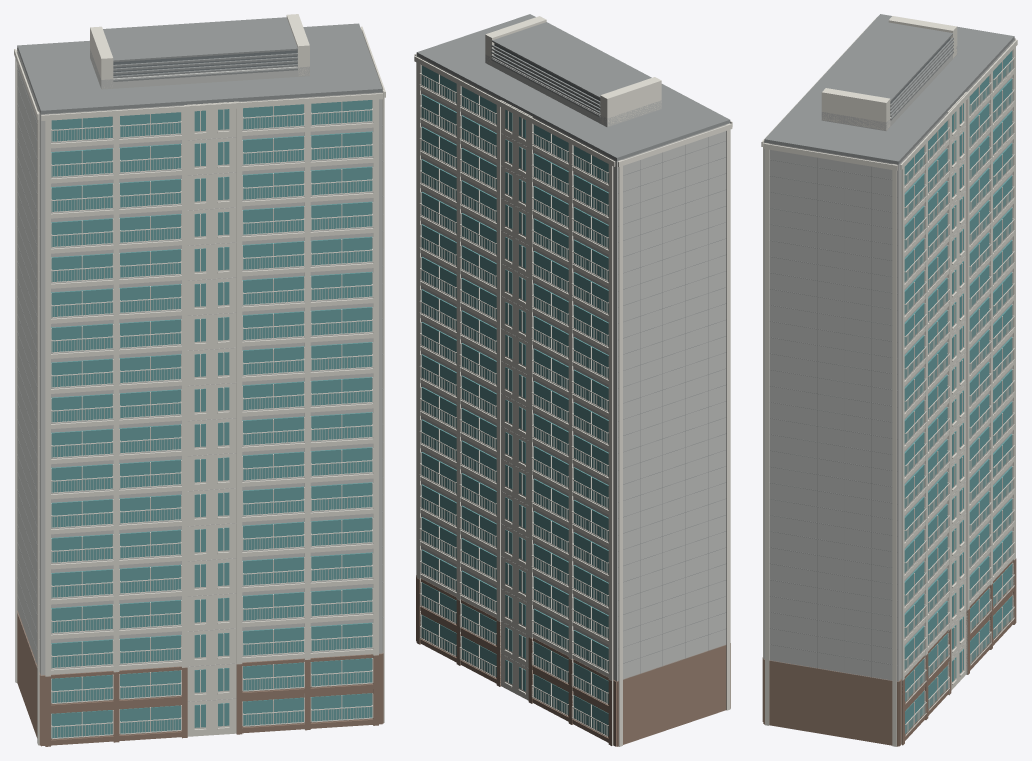
Rendered from bespoke-jamsil-els-151.glb.
The picture shows the model from 3 angles, left to right: view 1: azimuth 30°, elevation 25°; view 2: azimuth 150°, elevation 25°; view 3: azimuth 270°, elevation 25°; orthographic projection. The views are drawn at different scales.
Visible parts, largest first — view 1: Els151_editable_Els151_turquoise_balcony_glazing, Els151_white_exact_chunk_1, Els151_editable_Els151_light_grey_solid_wall, Els151_white_exact_chunk_2, Els151_editable_Els151_modest_grey_flat_roof_caps, Els151_editable_Els151_muted_ground_wall, Els151_editable_Els151_narrow_charcoal_service_strips; view 2: Els151_editable_Els151_light_grey_solid_wall, Els151_editable_Els151_turquoise_balcony_glazing, Els151_white_exact_chunk_0, Els151_editable_Els151_modest_grey_flat_roof_caps, Els151_white_exact_chunk_1, Els151_editable_Els151_muted_ground_wall, Els151_white_exact_chunk_2, Els151_editable_Els151_narrow_charcoal_service_strips; view 3: Els151_editable_Els151_light_grey_solid_wall, Els151_white_exact_chunk_0, Els151_editable_Els151_turquoise_balcony_glazing, Els151_editable_Els151_modest_grey_flat_roof_caps, Els151_editable_Els151_muted_ground_wall, Els151_white_exact_chunk_2, Els151_white_exact_chunk_1.
Boxes of the visible parts, bbox=[...] form: Els151_editable_Els151_turquoise_balcony_glazing: bbox=[51, 100, 372, 737]; Els151_white_exact_chunk_1: bbox=[14, 47, 373, 745]; Els151_editable_Els151_light_grey_solid_wall: bbox=[17, 49, 382, 701]; Els151_white_exact_chunk_2: bbox=[41, 14, 385, 733]; Els151_editable_Els151_modest_grey_flat_roof_caps: bbox=[17, 17, 383, 667]; Els151_editable_Els151_muted_ground_wall: bbox=[17, 610, 383, 746]; Els151_editable_Els151_narrow_charcoal_service_strips: bbox=[113, 50, 297, 75]; Els151_editable_Els151_light_grey_solid_wall: bbox=[416, 54, 730, 681]; Els151_editable_Els151_turquoise_balcony_glazing: bbox=[421, 65, 608, 735]; Els151_white_exact_chunk_0: bbox=[416, 57, 608, 736]; Els151_editable_Els151_modest_grey_flat_roof_caps: bbox=[416, 14, 730, 679]; Els151_white_exact_chunk_1: bbox=[414, 56, 732, 746]; Els151_editable_Els151_muted_ground_wall: bbox=[416, 575, 730, 746]; Els151_white_exact_chunk_2: bbox=[414, 16, 732, 574]; Els151_editable_Els151_narrow_charcoal_service_strips: bbox=[494, 43, 600, 111]; Els151_editable_Els151_light_grey_solid_wall: bbox=[764, 39, 1014, 681]; Els151_white_exact_chunk_0: bbox=[901, 74, 1014, 744]; Els151_editable_Els151_turquoise_balcony_glazing: bbox=[904, 51, 1012, 733]; Els151_editable_Els151_modest_grey_flat_roof_caps: bbox=[764, 14, 1014, 680]; Els151_editable_Els151_muted_ground_wall: bbox=[762, 558, 1016, 746]; Els151_white_exact_chunk_2: bbox=[761, 16, 957, 746]; Els151_white_exact_chunk_1: bbox=[829, 18, 1017, 674].
Bounding box in the file's own units: 25.58 × 48.75 × 18.45.
